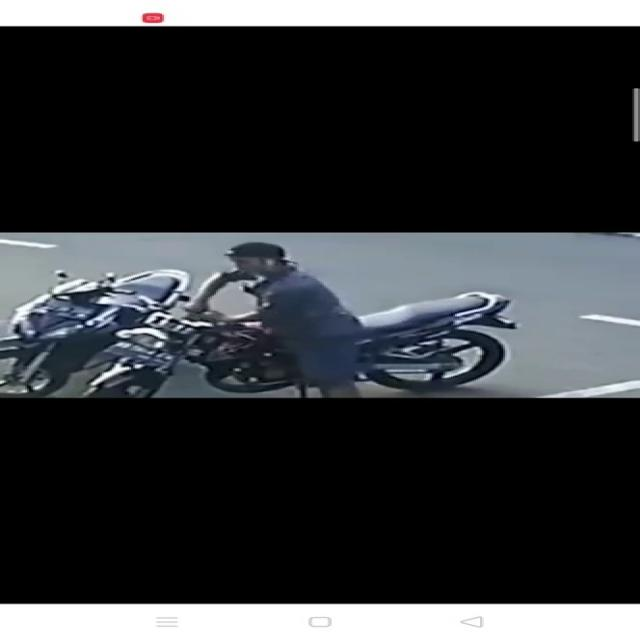pencurian: (172, 241, 520, 397)
